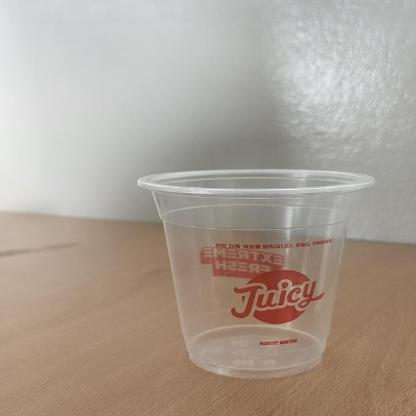Plastic Cup: (137, 168, 376, 378)
